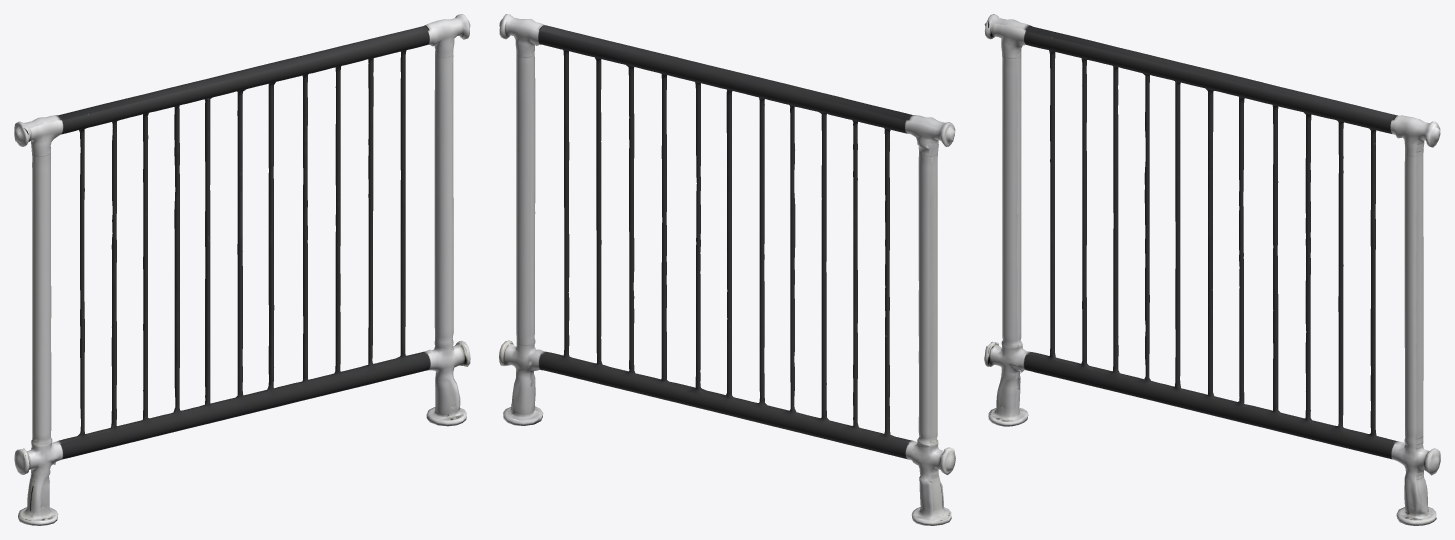
File: tvorele2.glb
3 views of the same model, side by side, from view 1: azimuth 30°, elevation 25°; view 2: azimuth 150°, elevation 25°; view 3: azimuth 330°, elevation 25° (orthographic).
Size of the model in its own units: 1.98 by 1.67 by 0.1558.
1 material, 1 textured.
